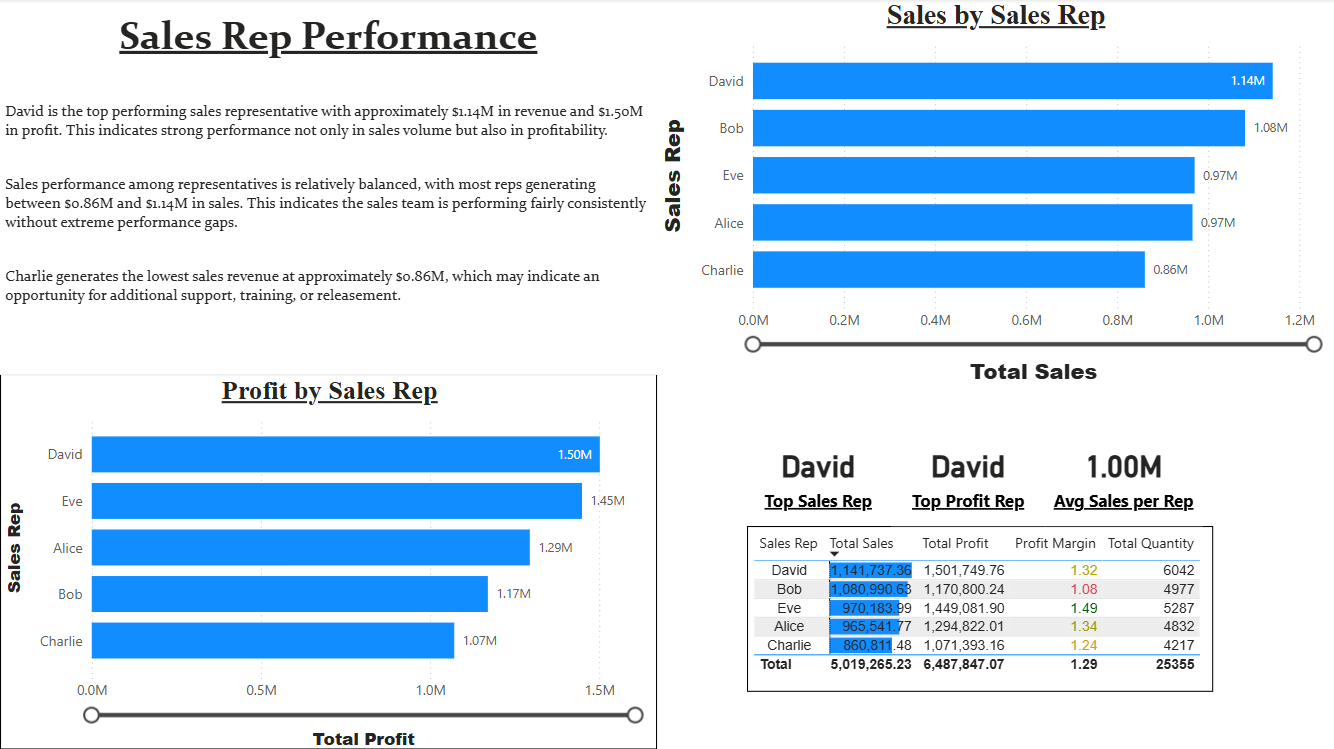

Layout of this report page (visuals, bound fields, positions):
{"tool":"powerbi","page":{"name":"Page 2","canvas":[1280,720],"ordinal":1},"visuals":[{"type":"textbox","box":[54.5,6.8,520.4,59.3],"z":0},{"type":"barChart","title":"Sales by Sales Rep","fields":{"Category":["sales_data.Sales_Rep"],"Y":["sales_data.Total Sales"]},"box":[629.9,0,650.1,367.2],"z":1000},{"type":"barChart","title":"Profit by Sales Rep","fields":{"Category":["sales_data.Sales_Rep"],"Y":["sales_data.Total Profit"]},"box":[0,359.9,630.3,359.9],"z":2000},{"type":"tableEx","fields":{"Values":["sales_data.Sales_Rep","sales_data.Total Sales","sales_data.Total Profit","sales_data.Profit Margin","sales_data.Total Quantity"]},"box":[716.2,505.3,446.8,159.2],"z":3000},{"type":"textbox","box":[0,59.3,630.3,300.5],"z":4000},{"type":"card","fields":{"Values":["Date_Table.Top Sales Rep"]},"box":[702.2,416.3,165.3,80.7],"z":5000},{"type":"card","fields":{"Values":["Date_Table.Top Profit Rep"]},"box":[854,407.5,147.8,98.2],"z":6000},{"type":"card","fields":{"Values":["Date_Table.Avg Sales per Rep"]},"box":[1001.8,407.5,150.8,98.2],"z":7000}]}

Visuals, with their boxes in screenshot pixels (x1, y1, x2, y2), scaled from the page's 1280x720 canvas onto the 1334x749 screenshot:
textbox: 57,7,599,69
"Sales by Sales Rep" barChart: 656,0,1333,382
"Profit by Sales Rep" barChart: 0,374,657,748
tableEx - sales_data.Sales_Rep x sales_data.Total Sales: 746,526,1212,691
textbox: 0,62,657,374
card - Date_Table.Top Sales Rep: 732,433,904,517
card - Date_Table.Top Profit Rep: 890,424,1044,526
card - Date_Table.Avg Sales per Rep: 1044,424,1201,526
